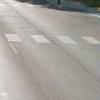Crosswalk: (1, 24, 100, 64)
